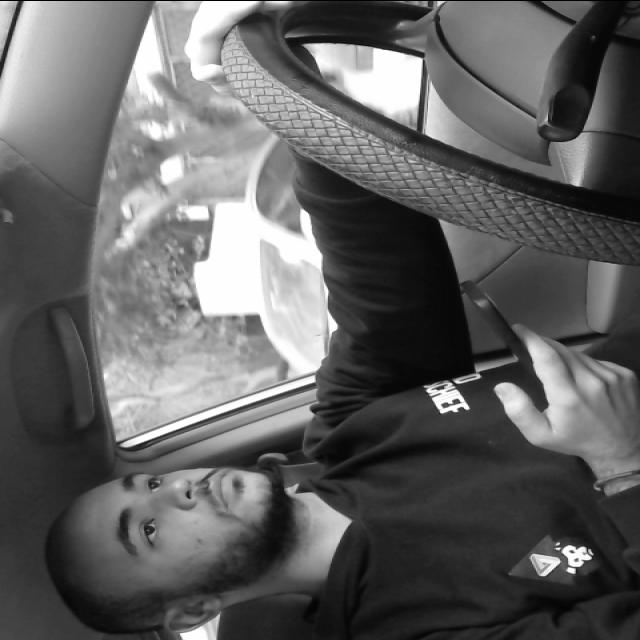mobile use: (454, 277, 548, 393)
